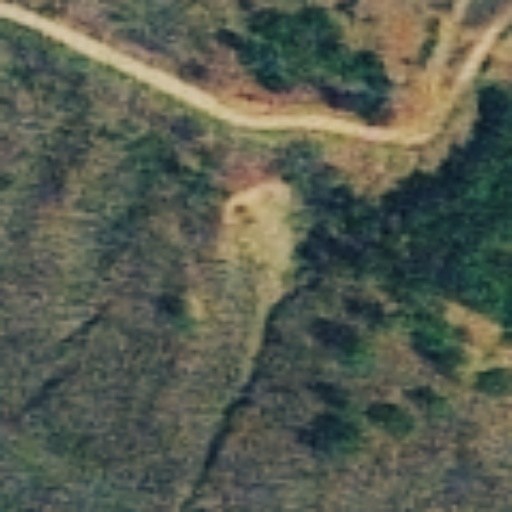landslide: (207, 181, 303, 284)
